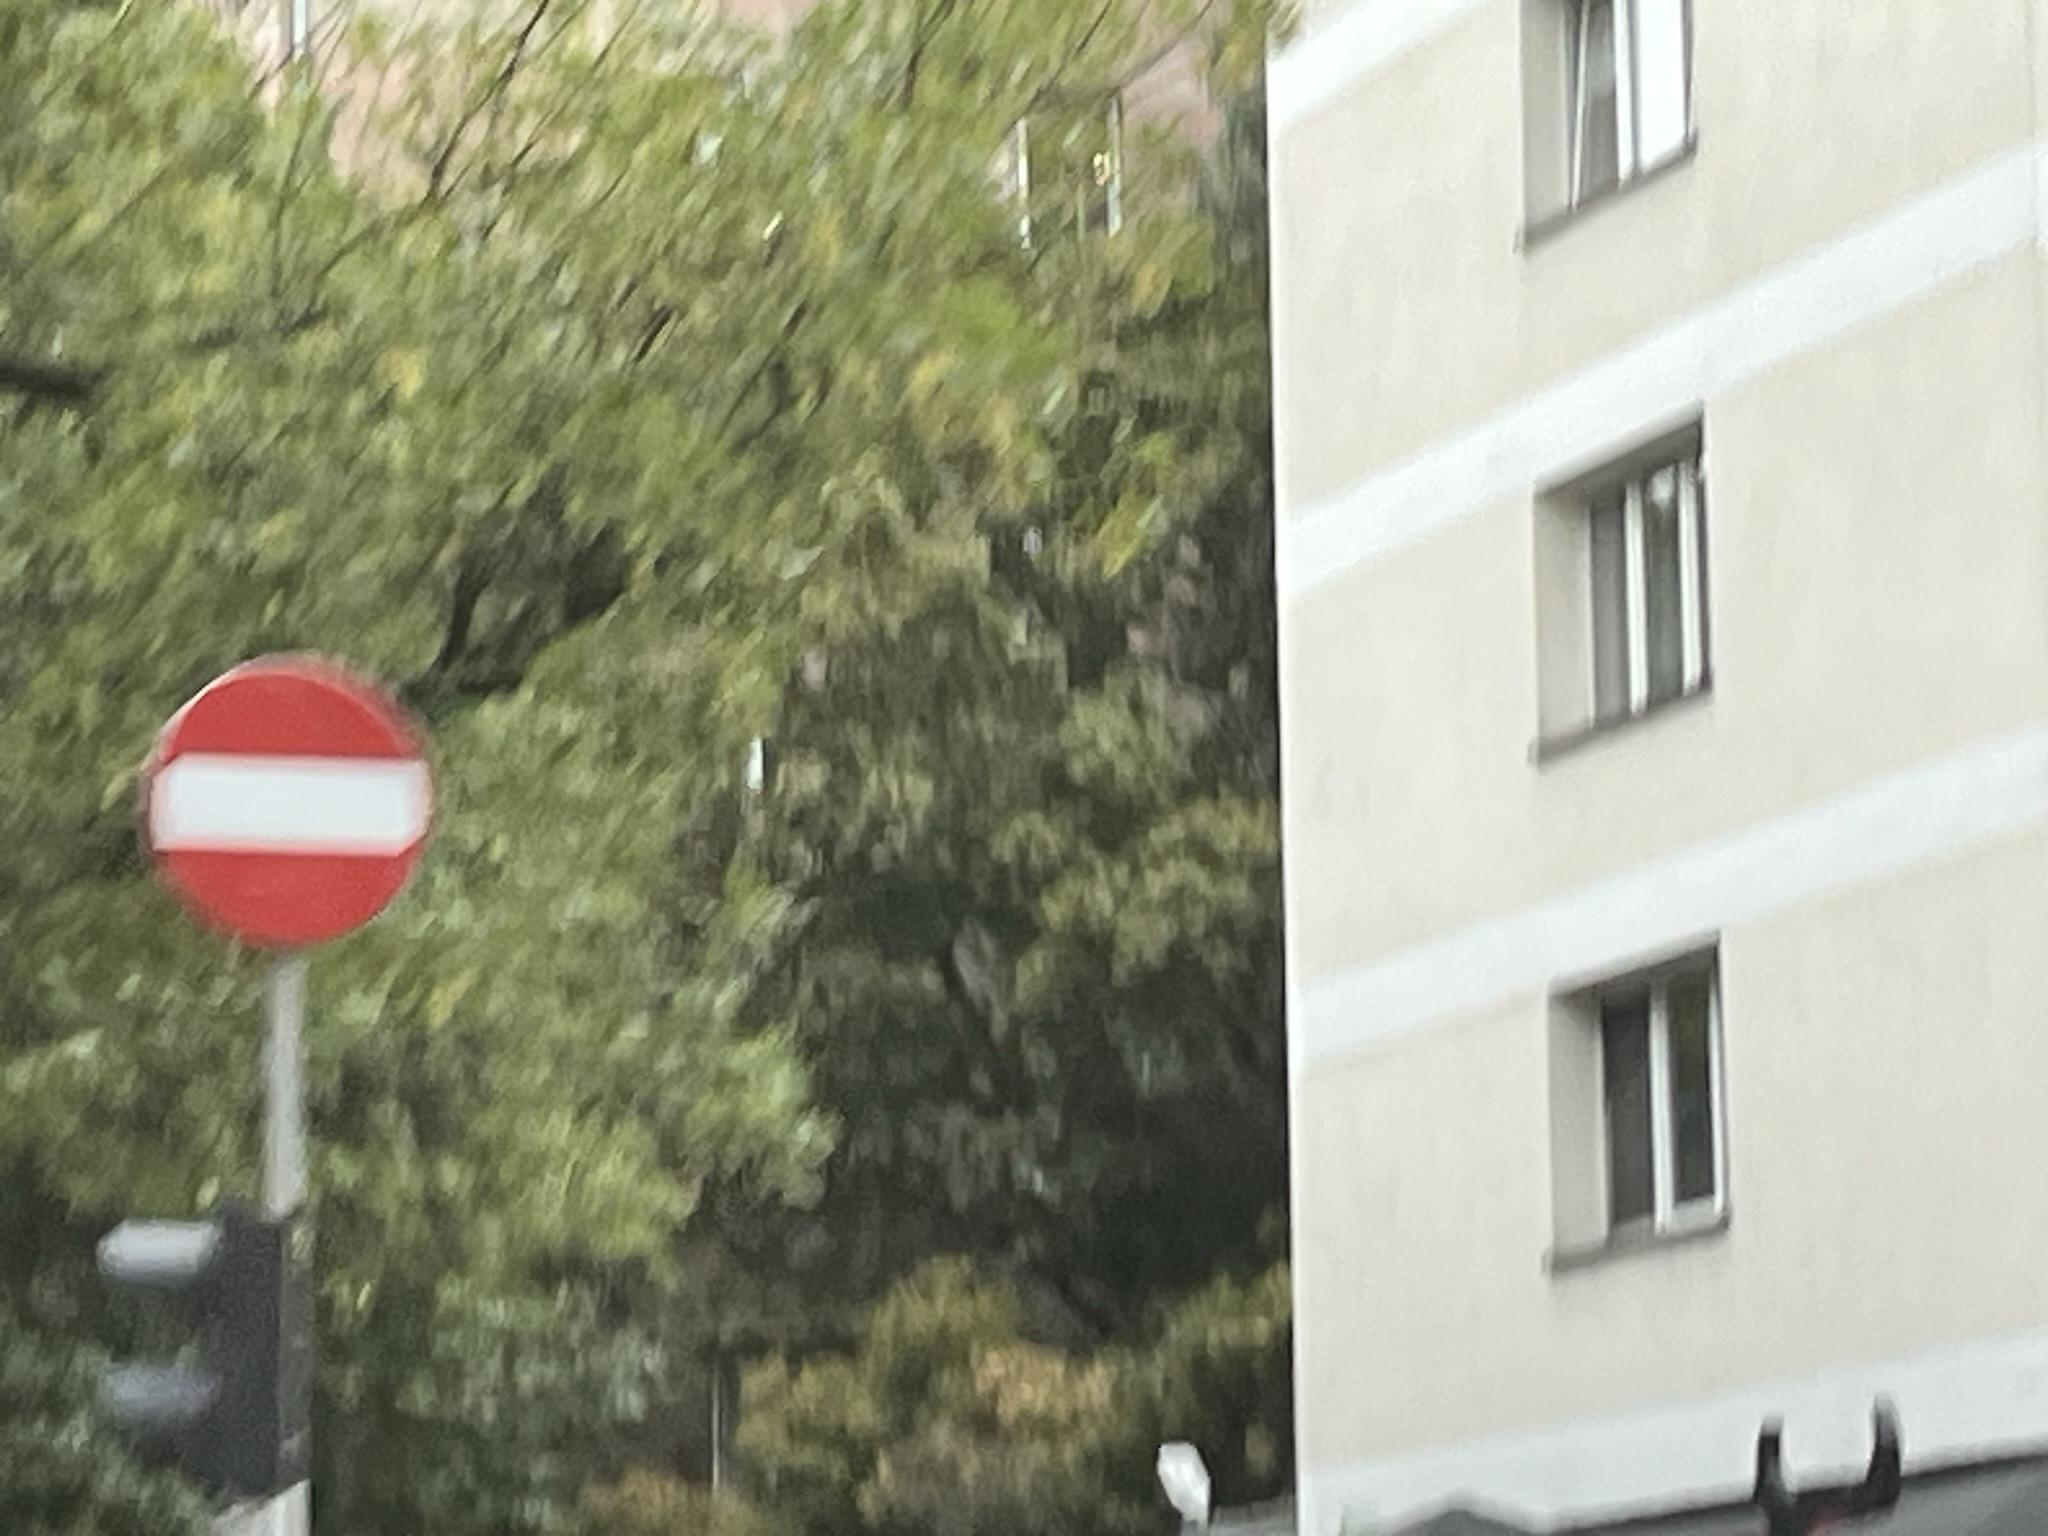prohibitory: (144, 653, 435, 952)
